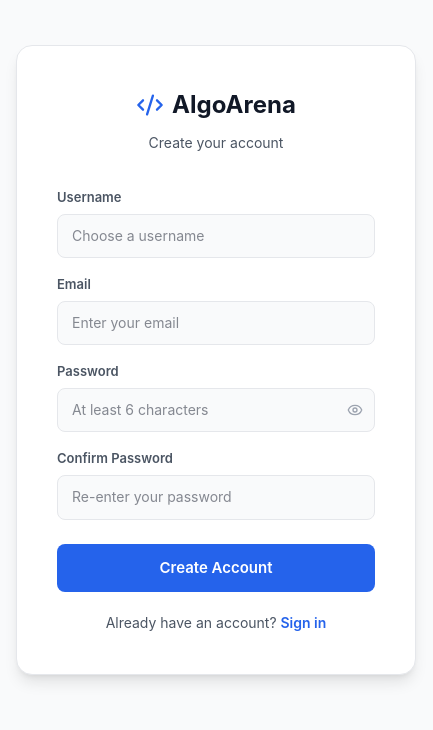
Test: Register Page › Error handling › should show error message on registration failure
This screenshot has width=433, height=730.
Type "taken" into the field with placeholder "Choose a username".
click(216, 236); type("taken")  # box [57, 214, 375, 258]
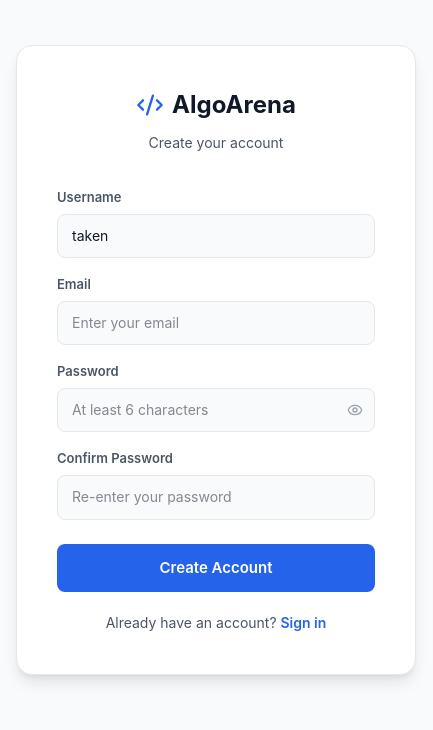
Type "a@b.com" into the field with placeholder "Enter your email".
click(216, 323); type("a@b.com")  # box [57, 301, 375, 345]
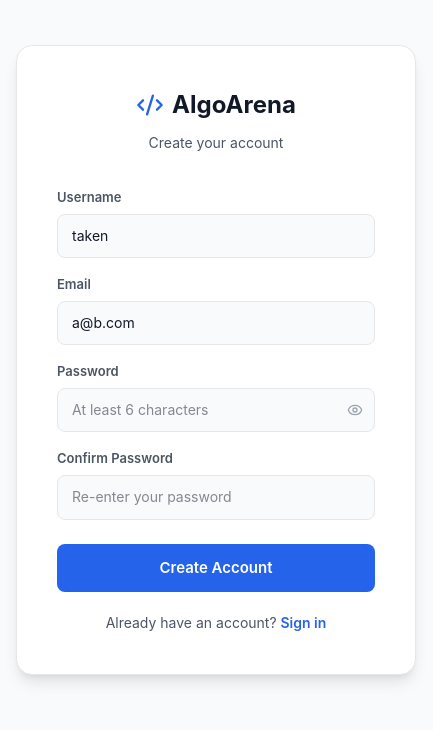
Type "pass123" into the password field with placeholder "At least 6 characters".
click(216, 410); type("pass123")  # box [57, 388, 375, 432]
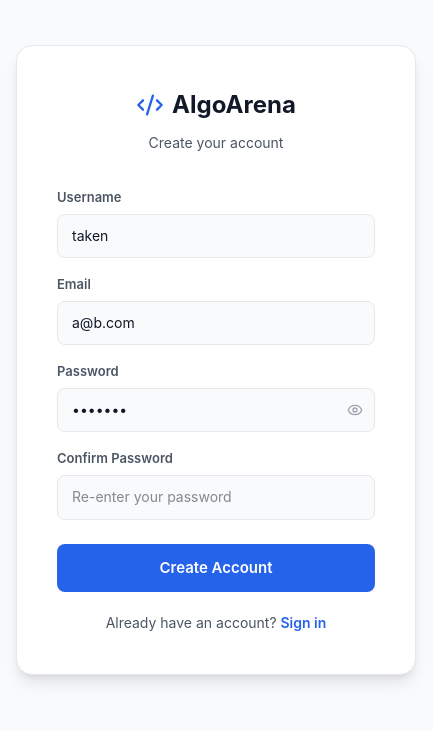
Type "pass123" into the password field with placeholder "Re-enter your password".
click(216, 497); type("pass123")  # box [57, 475, 375, 520]
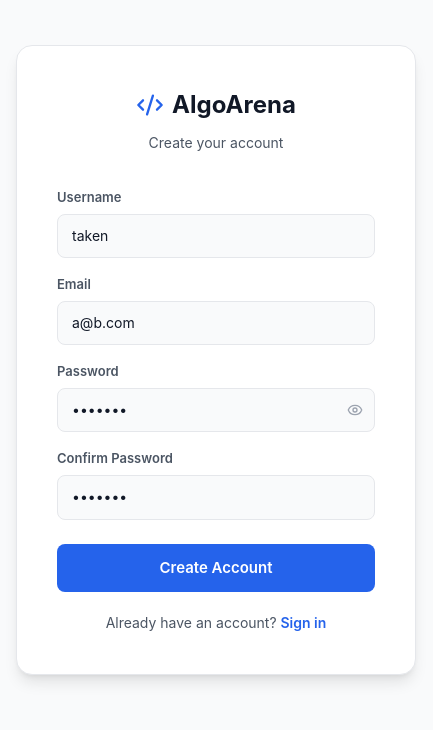
Click the button "Create Account".
click(216, 568)  # box [57, 544, 375, 592]
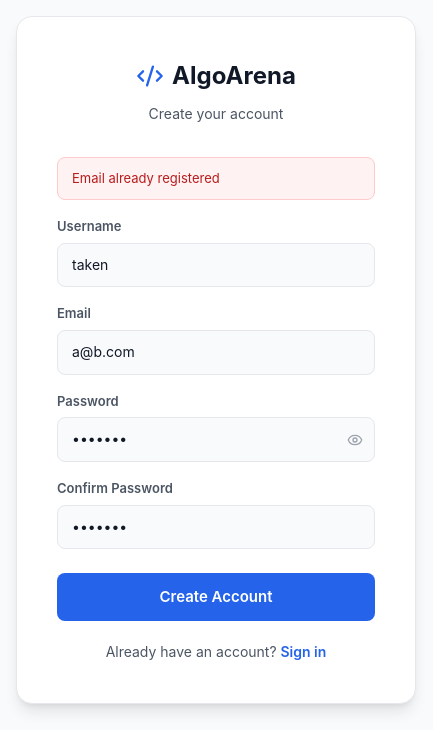
Check: the text "Email already registered" is shown, box [57, 157, 375, 200]
